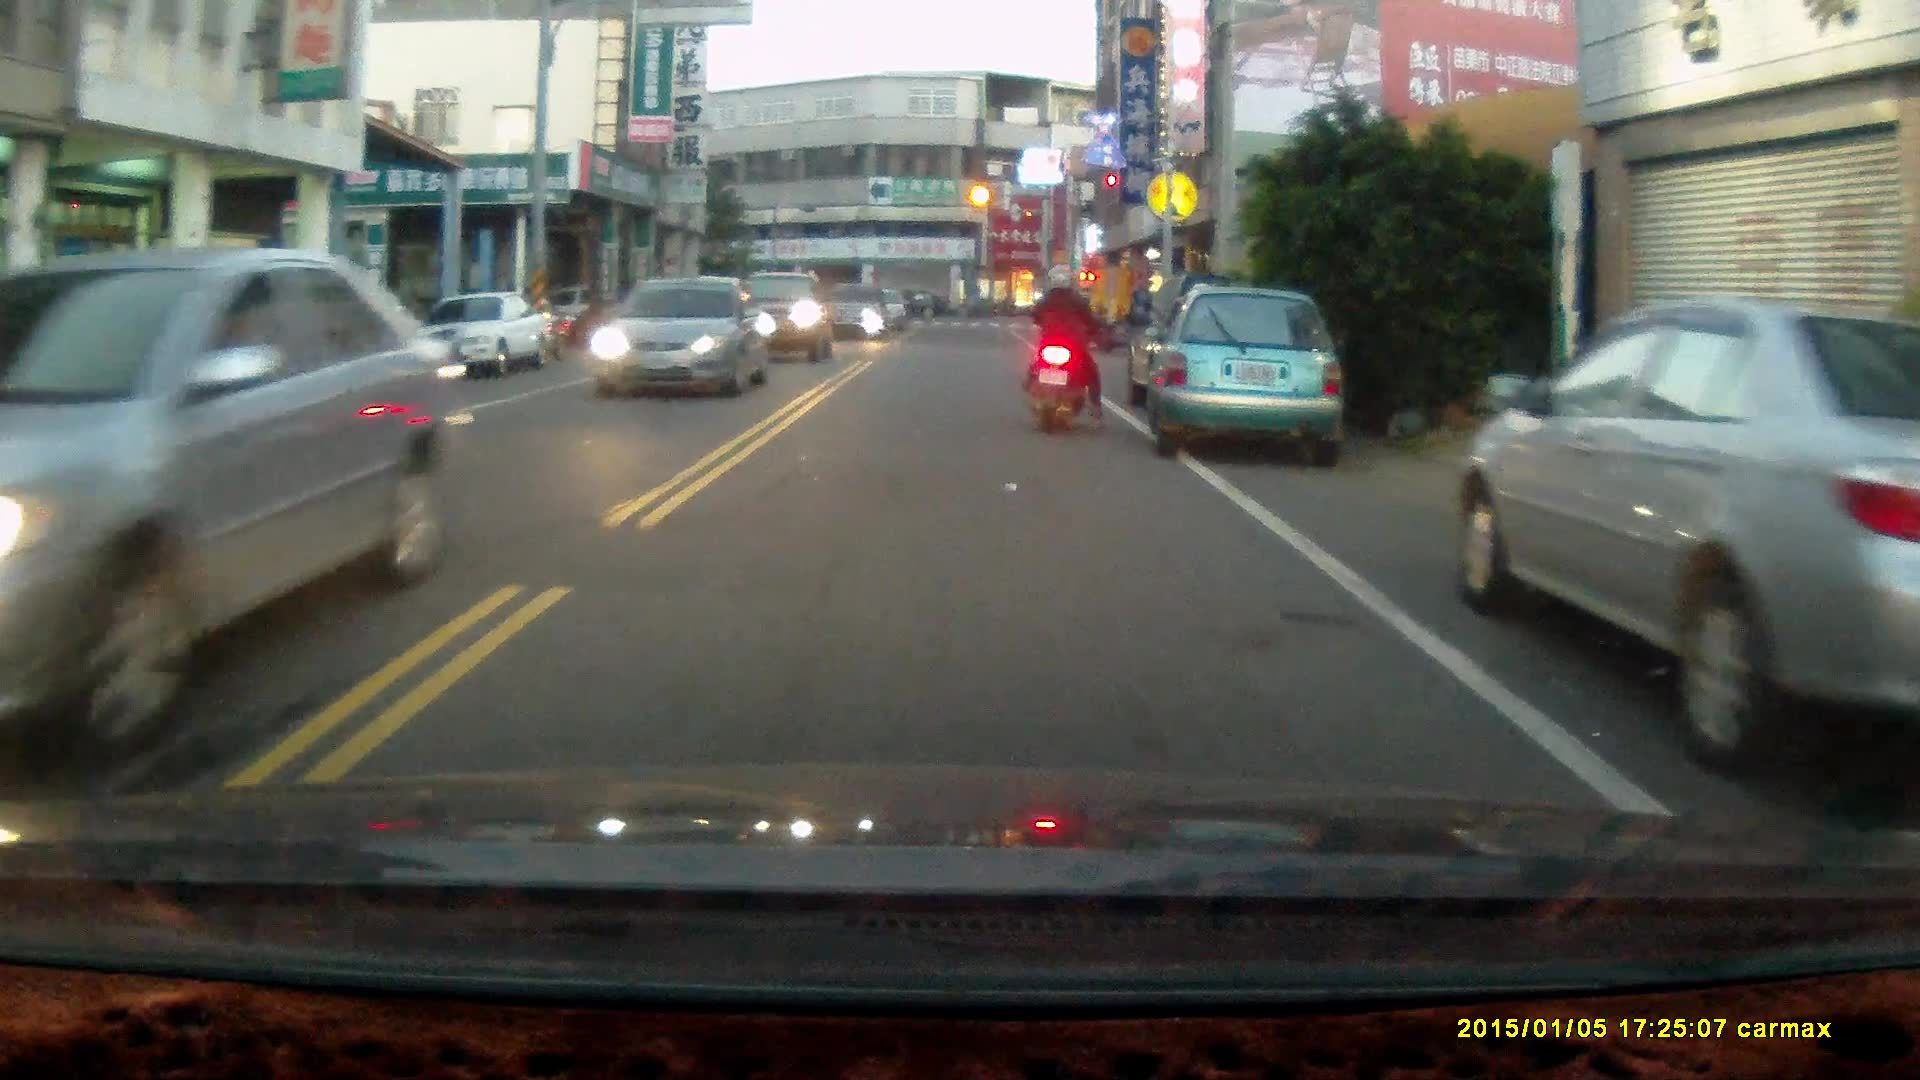rider: (1025, 266, 1107, 434)
vehicle: (1, 248, 465, 765), (1463, 298, 1920, 772), (1150, 283, 1348, 467), (597, 275, 769, 400), (399, 290, 543, 378), (712, 270, 839, 367)
